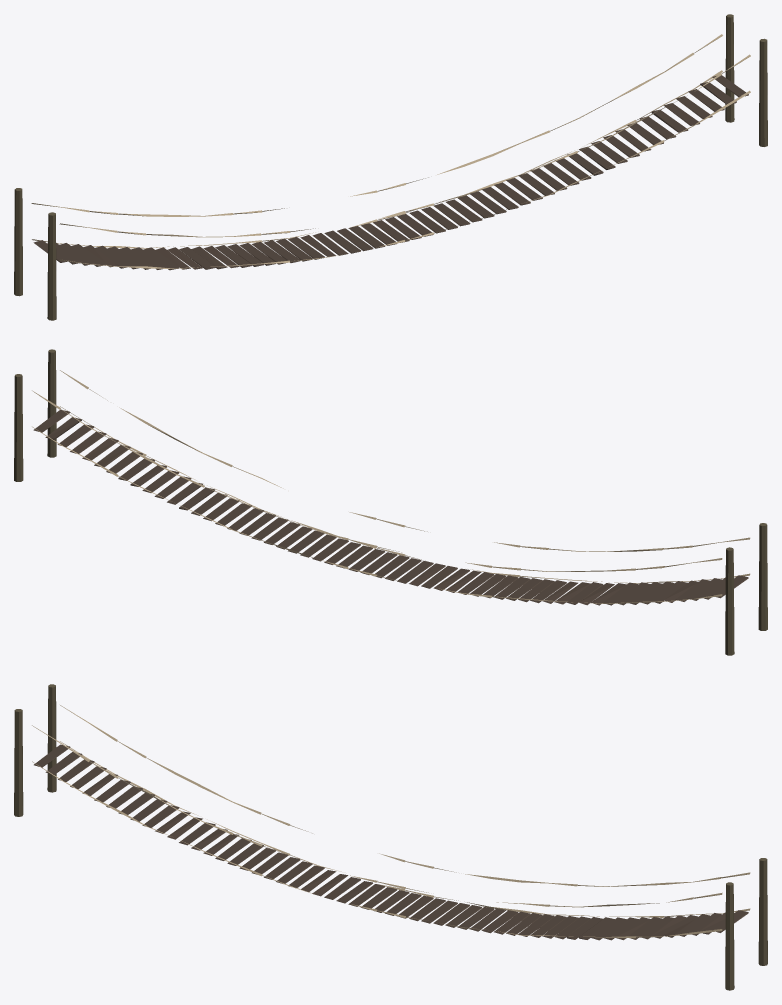
Rendered from rope-bridge-lod1.glb.
3 views of the same model, one above another, from view 1: azimuth 30°, elevation 25°; view 2: azimuth 150°, elevation 25°; view 3: azimuth 330°, elevation 25° (orthographic).
Bounding box in the file's own units: 20.83 × 3.24 × 1.91.
